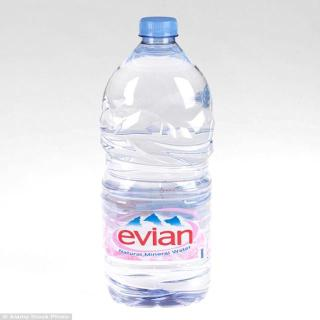Plastic-bottle: (95, 13, 224, 312)
